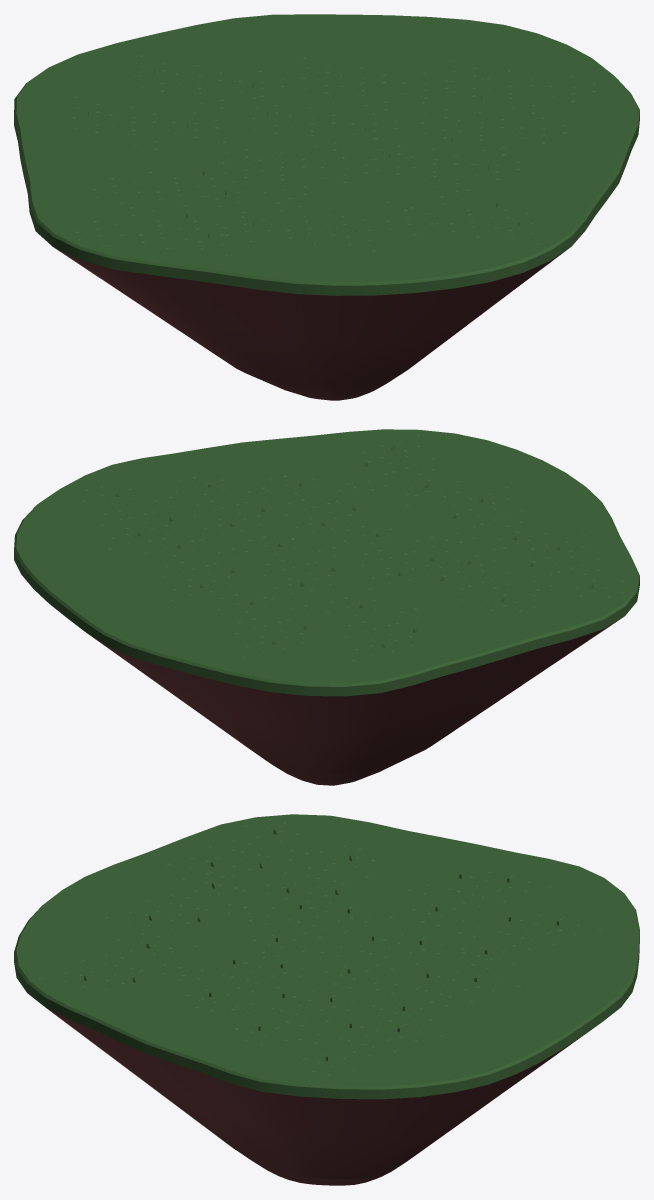
Rendered from Island_test_v001.fbx.
The picture shows the model from 3 angles, top to bottom: view 1: azimuth 30°, elevation 25°; view 2: azimuth 150°, elevation 25°; view 3: azimuth 270°, elevation 25°; orthographic projection. The views are drawn at different scales.
Parts seen in each view (by area): view 1: Temp_land; view 2: Temp_land; view 3: Temp_land.
Boxes of the visible parts, left/top/right/bottom form: Temp_land: left=14, top=14, right=639, bottom=400; Temp_land: left=14, top=429, right=639, bottom=785; Temp_land: left=14, top=814, right=639, bottom=1185.
Size of the model in its own units: 62.52 by 24.86 by 60.28.
